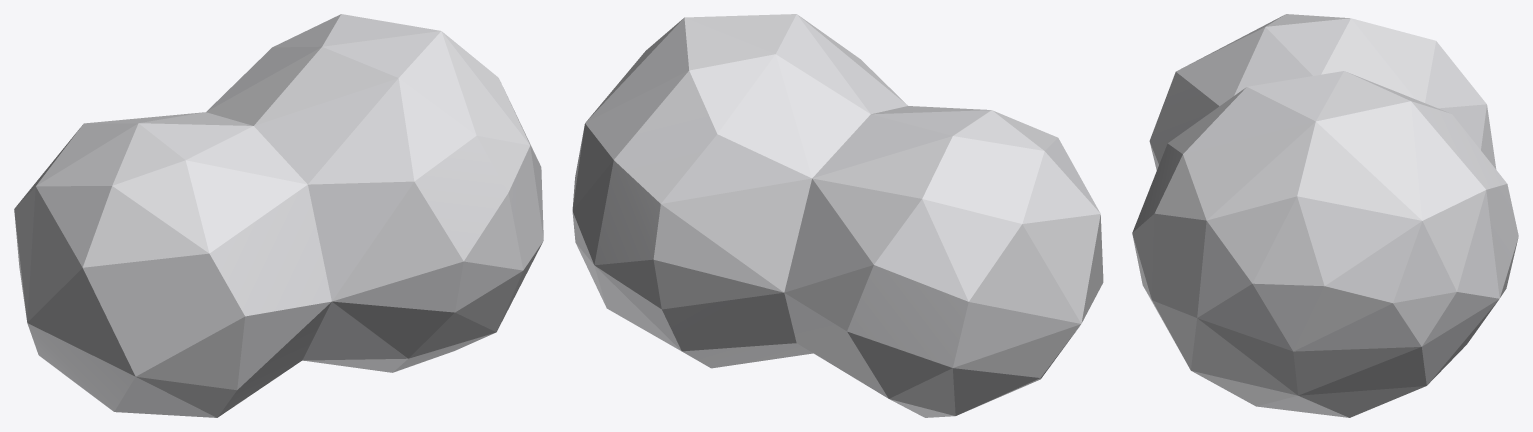
Rendered from small_cloud_11.fbx.
3 renders of one model, left to right at view 1: azimuth 30°, elevation 25°; view 2: azimuth 150°, elevation 25°; view 3: azimuth 270°, elevation 25°, orthographic.
Visible parts, largest first — view 1: cloud_11; view 2: cloud_11; view 3: cloud_11.
Part boxes in pixels (<box>): cloud_11: <box>14,14,543,417</box>; cloud_11: <box>572,14,1103,417</box>; cloud_11: <box>1132,14,1518,417</box>.
Size of the model in its own units: 264 by 162 by 184.
